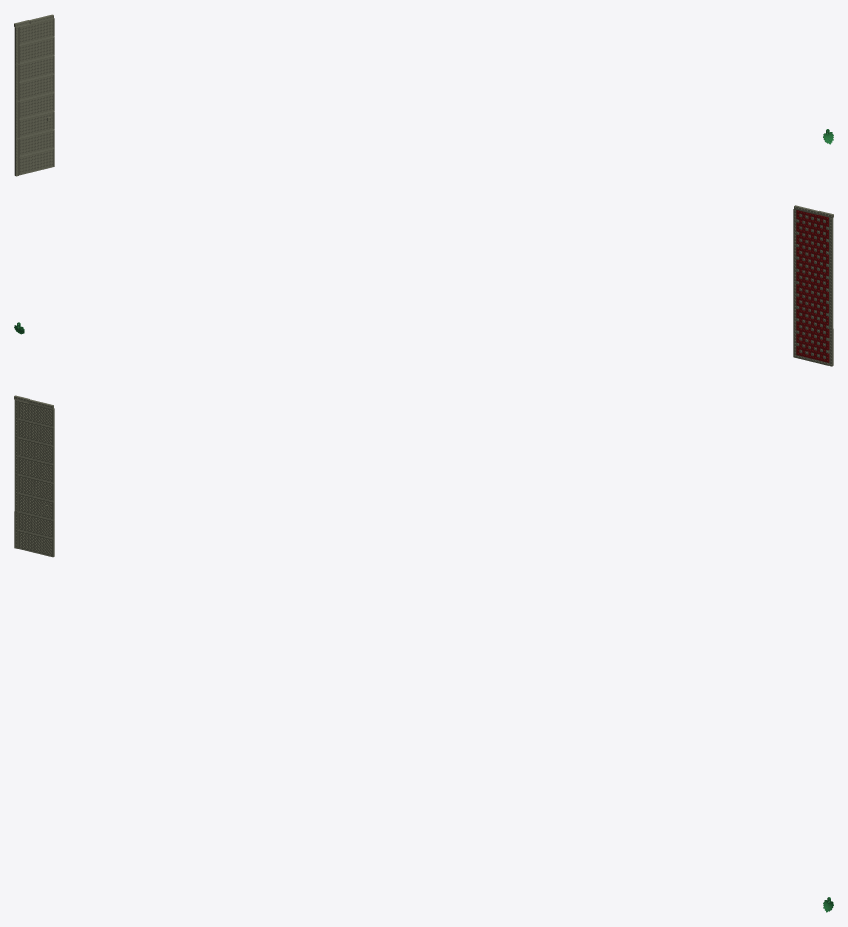
Rendered from caminito.dae.
3 views of the same model, one above another, from view 1: azimuth 30°, elevation 25°; view 2: azimuth 150°, elevation 25°; view 3: azimuth 330°, elevation 25° (orthographic).
Parts seen in each view (by area): view 1: Inner-Node-plantas__con__caminito_dot_io-1, Inner-Node-plantas__con__caminito_dot_io-3, Inner-Node-plantas__con__caminito_dot_io-6, Inner-Node-plantas__con__caminito_dot_io-269, Inner-Node-plantas__con__caminito_dot_io-2, Inner-Node-plantas__con__caminito_dot_io-5, Inner-Node-plantas__con__caminito_dot_io-270, Inner-Node-plantas__con__caminito_dot_io-4; view 2: no part large enough to name; view 3: no part large enough to name.
Part boxes in pixels (left/top/right/bottom): Inner-Node-plantas__con__caminito_dot_io-1: left=19, top=55, right=54, bottom=82; Inner-Node-plantas__con__caminito_dot_io-3: left=19, top=92, right=54, bottom=119; Inner-Node-plantas__con__caminito_dot_io-6: left=19, top=148, right=54, bottom=175; Inner-Node-plantas__con__caminito_dot_io-269: left=19, top=37, right=54, bottom=63; Inner-Node-plantas__con__caminito_dot_io-2: left=19, top=74, right=54, bottom=100; Inner-Node-plantas__con__caminito_dot_io-5: left=19, top=130, right=54, bottom=156; Inner-Node-plantas__con__caminito_dot_io-270: left=19, top=18, right=54, bottom=45; Inner-Node-plantas__con__caminito_dot_io-4: left=19, top=111, right=54, bottom=138.
Bounding box in the file's own units: 5542 × 2059 × 46.74.
